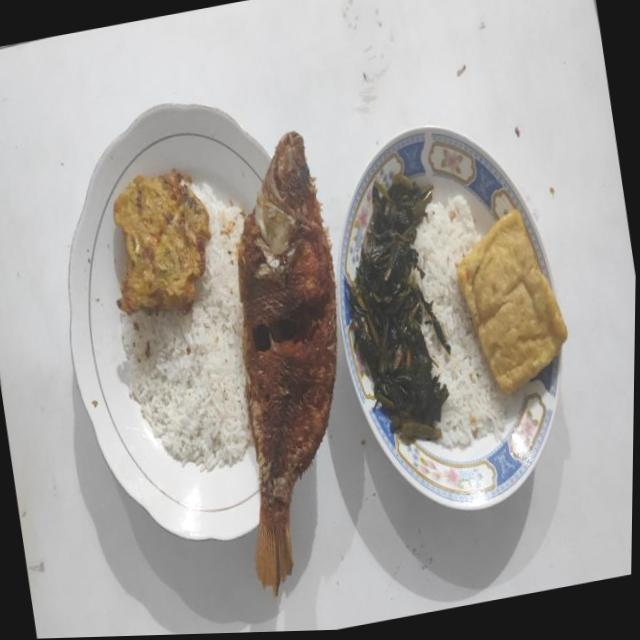ikan_mujair: (238, 132, 337, 595)
nasi_putih: (121, 186, 252, 471), (414, 195, 506, 450)
tahu_goreng: (458, 209, 568, 395)
tumis_kangkung: (346, 174, 450, 442)
